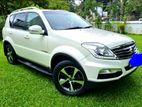car: (3, 7, 140, 96)
